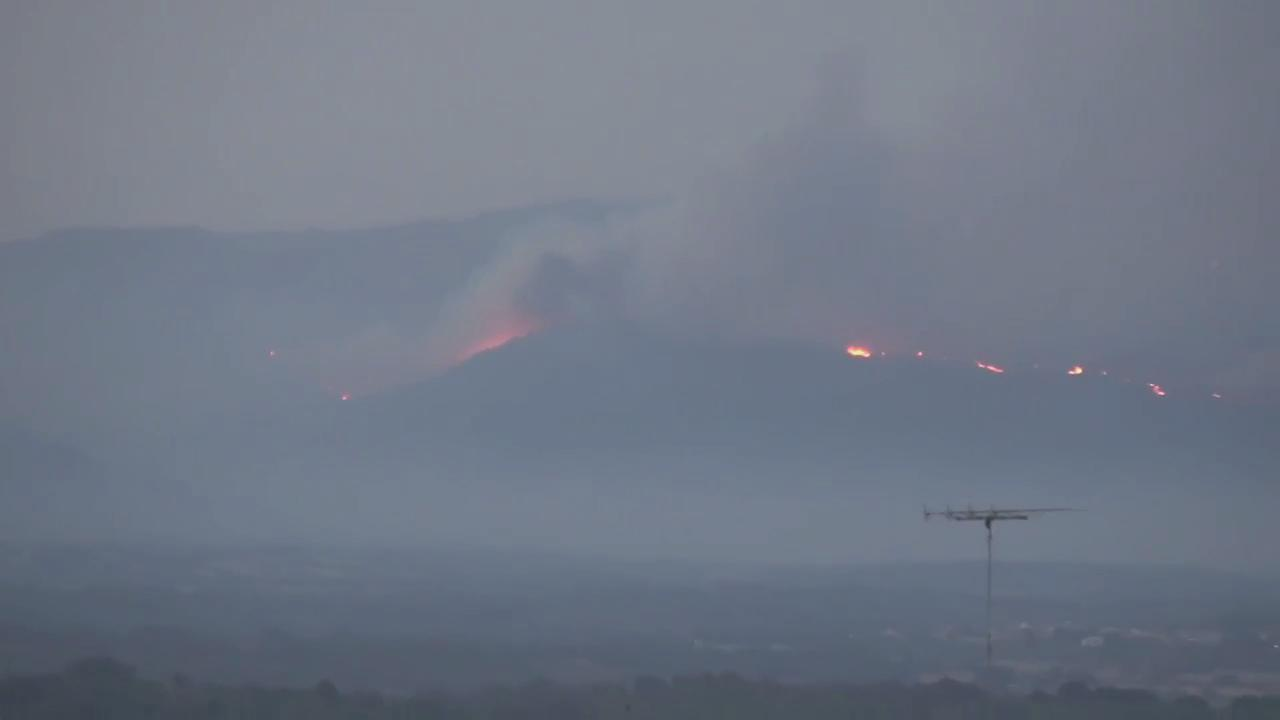fire: (976, 356, 1002, 374), (844, 341, 871, 358), (1146, 378, 1165, 395), (1068, 361, 1083, 377)
